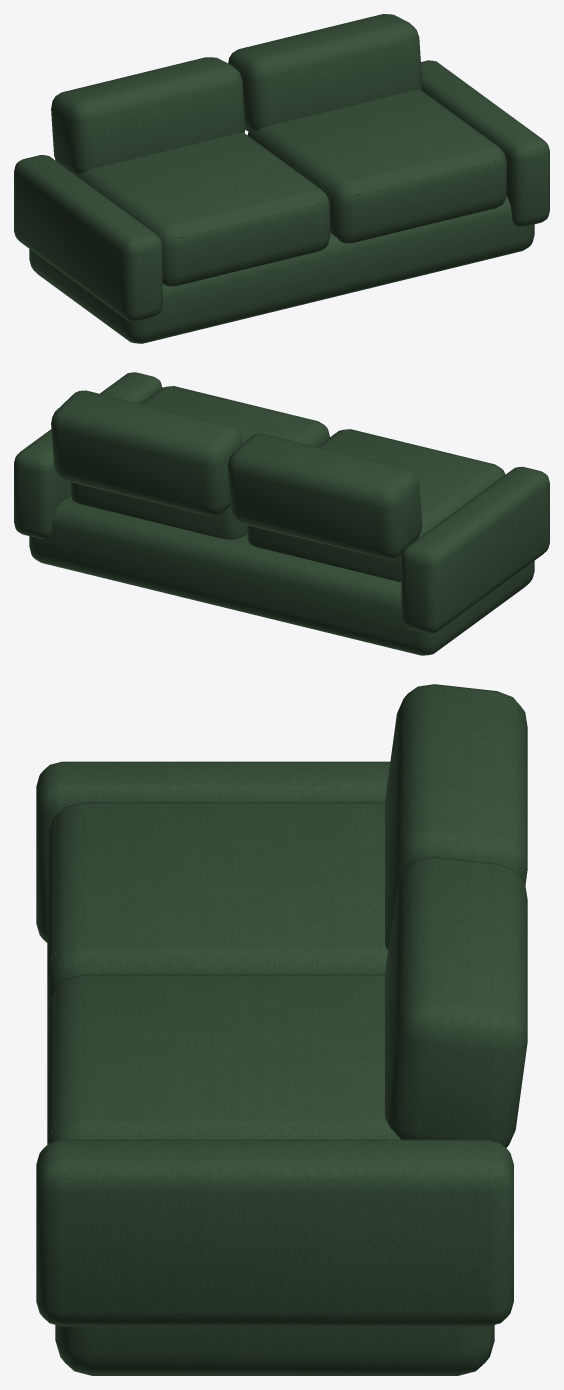
File: modular-play-sofa.glb
The picture shows the model from 3 angles, top to bottom: view 1: azimuth 30°, elevation 25°; view 2: azimuth 150°, elevation 25°; view 3: azimuth 270°, elevation 25°; orthographic projection. The views are drawn at different scales.
Visible parts, largest first — view 1: modular-play-sofa authored assembly; view 2: modular-play-sofa authored assembly; view 3: modular-play-sofa authored assembly.
Boxes of the visible parts, x1,y1,x2,y2 form: modular-play-sofa authored assembly: [14, 14, 549, 343]; modular-play-sofa authored assembly: [14, 372, 549, 655]; modular-play-sofa authored assembly: [36, 684, 527, 1375].
Bounding box in the file's own units: 1.5 × 0.58 × 0.75.
Materials: 2 (1 with a texture image).
